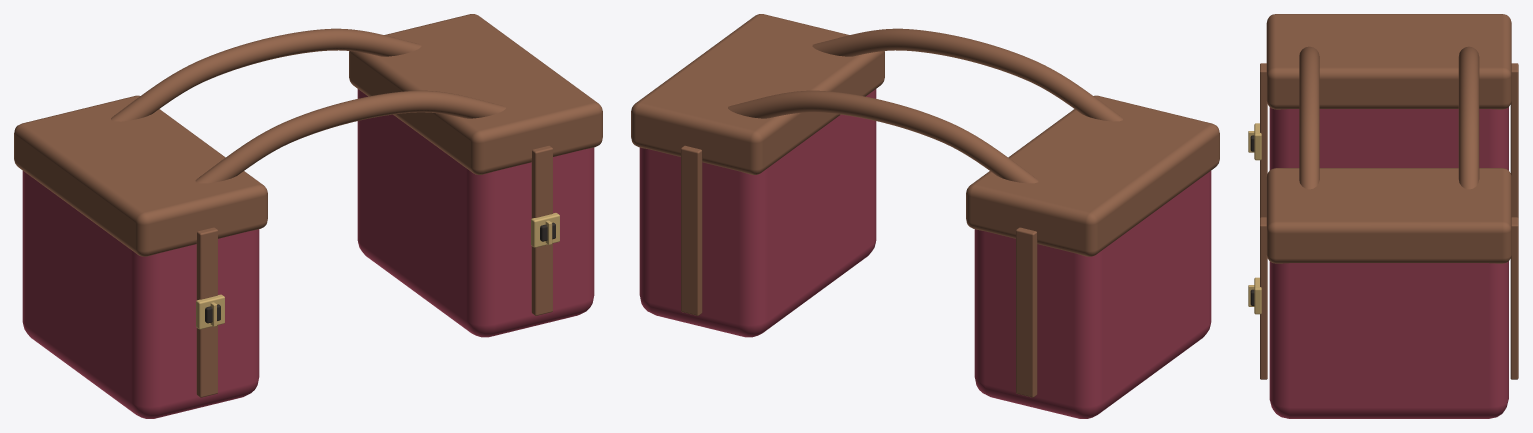
The model's file is griffin-airmail-roost-and-posthouse-paired-mail-pannie-5d403a3d__30506.glb.
The picture shows the model from 3 angles, left to right: view 1: azimuth 30°, elevation 25°; view 2: azimuth 150°, elevation 25°; view 3: azimuth 270°, elevation 25°; orthographic projection. The views are drawn at different scales.
Parts seen in each view (by area): view 1: paired-mail-panniers; view 2: paired-mail-panniers; view 3: paired-mail-panniers.
Part boxes in pixels (bbox=[...]): paired-mail-panniers: bbox=[14, 14, 602, 418]; paired-mail-panniers: bbox=[631, 14, 1219, 418]; paired-mail-panniers: bbox=[1248, 14, 1518, 418].
Size of the model in its own units: 0.89 by 0.468 by 0.474.
